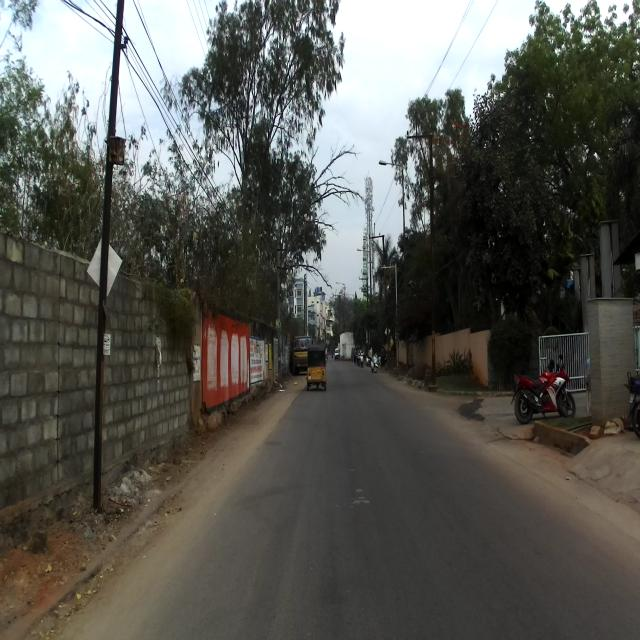electric pole ahead at: (84, 0, 132, 526)
motorcycle ahead at: (512, 354, 578, 428)
